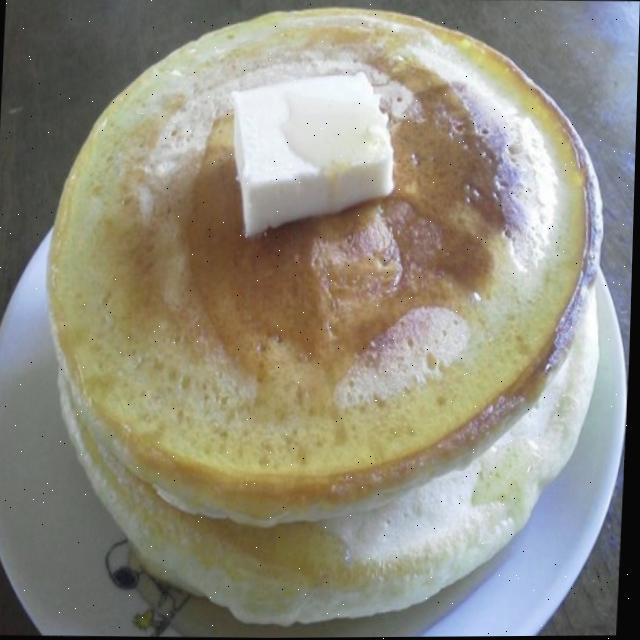汉堡快餐: (10, 93, 638, 552)
